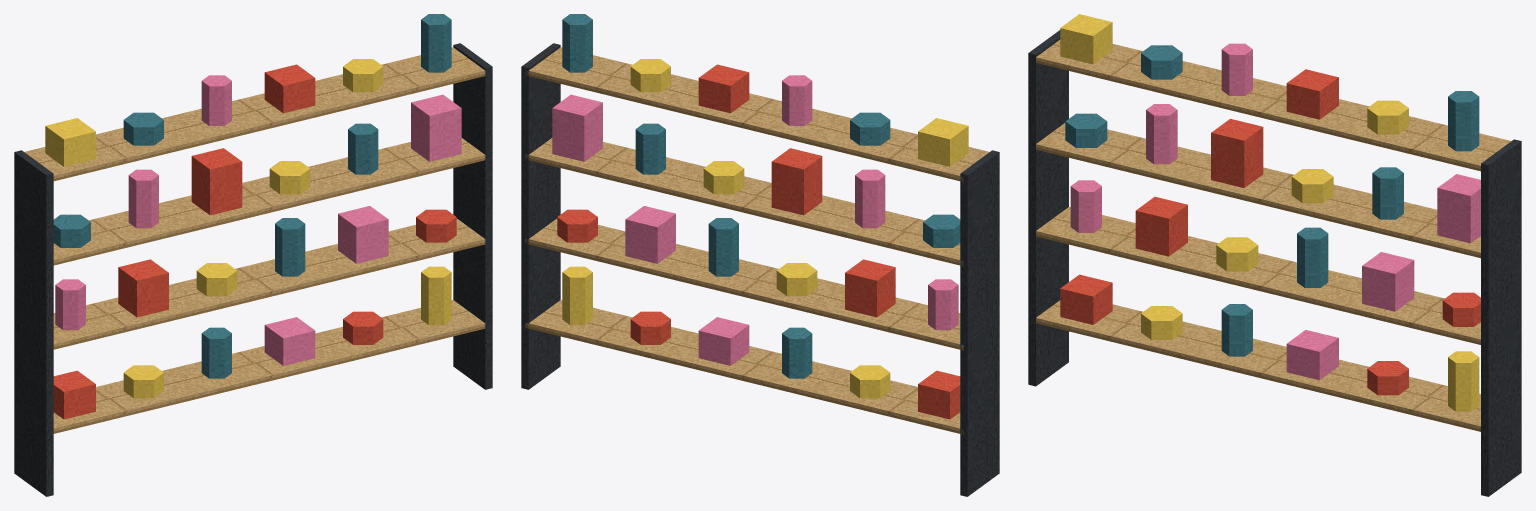
3 renders of one model, left to right at view 1: azimuth 30°, elevation 25°; view 2: azimuth 150°, elevation 25°; view 3: azimuth 330°, elevation 25°, orthographic. The views are drawn at different scales.
Visible parts, largest first — view 1: Decor_knick_shelf; view 2: Decor_knick_shelf; view 3: Decor_knick_shelf.
Boxes of the visible parts, box(x1,y1,x2,y2) form: Decor_knick_shelf: box(14, 14, 492, 496); Decor_knick_shelf: box(521, 14, 999, 496); Decor_knick_shelf: box(1028, 14, 1521, 496).
Size of the model in its own units: 3.05 by 2.39 by 0.38.
6 materials, 6 textured.
